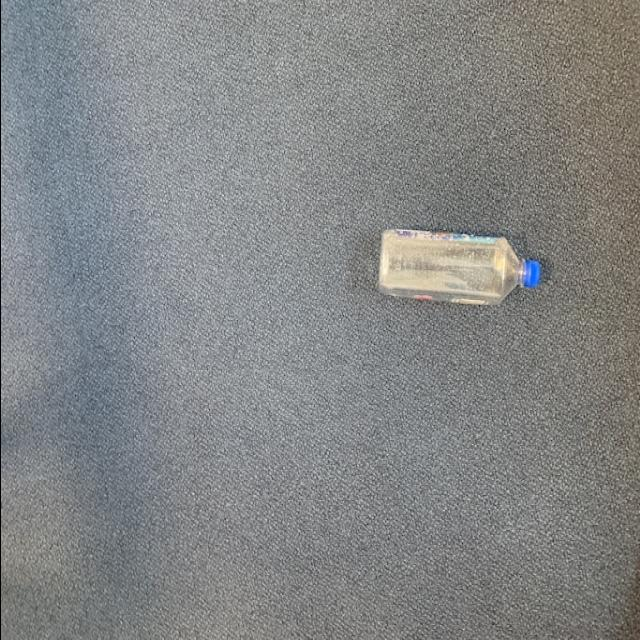litter: (372, 226, 539, 312)
